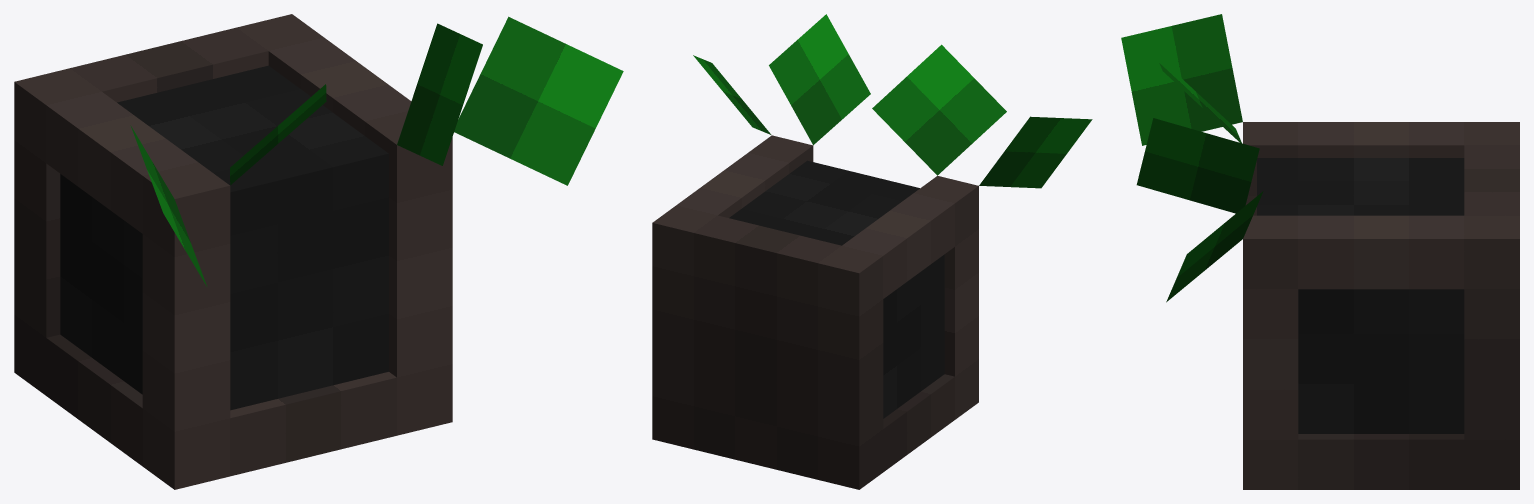
File: head_basic.obj
The picture shows the model from 3 angles, left to right: view 1: azimuth 30°, elevation 25°; view 2: azimuth 150°, elevation 25°; view 3: azimuth 270°, elevation 25°; orthographic projection. The views are drawn at different scales.
Parts seen in each view (by area): view 1: HEAD_BASIC_Cube.002, HEAD_DECO_WOOD_Cube.089; view 2: HEAD_BASIC_Cube.002, HEAD_DECO_WOOD_Cube.089; view 3: HEAD_BASIC_Cube.002, HEAD_DECO_WOOD_Cube.089.
Boxes of the visible parts, x1,y1,x2,y2 form: HEAD_BASIC_Cube.002: (14, 14, 452, 489); HEAD_DECO_WOOD_Cube.089: (130, 16, 623, 286); HEAD_BASIC_Cube.002: (652, 135, 978, 489); HEAD_DECO_WOOD_Cube.089: (693, 14, 1092, 188); HEAD_BASIC_Cube.002: (1243, 122, 1519, 489); HEAD_DECO_WOOD_Cube.089: (1121, 14, 1263, 302).
Bounding box in the file's own units: 0.5607 × 0.4522 × 0.45.
